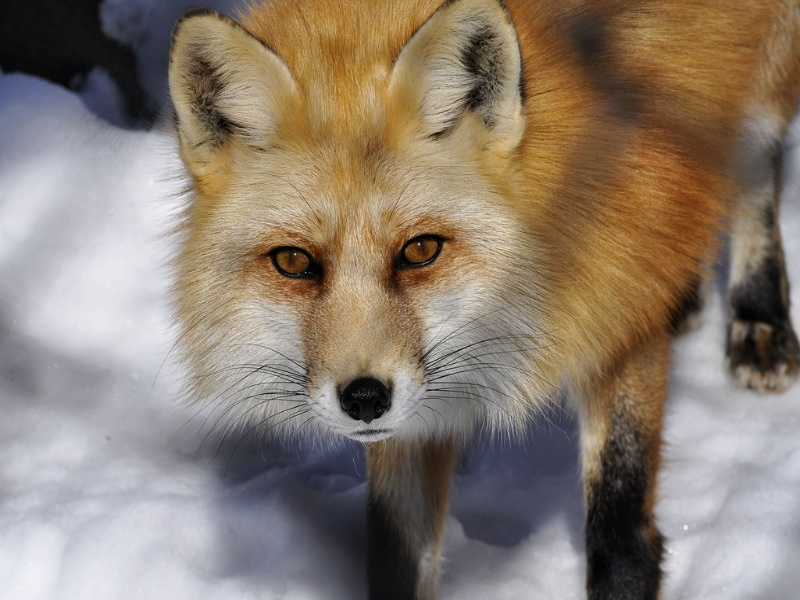fox: (162, 4, 798, 591)
